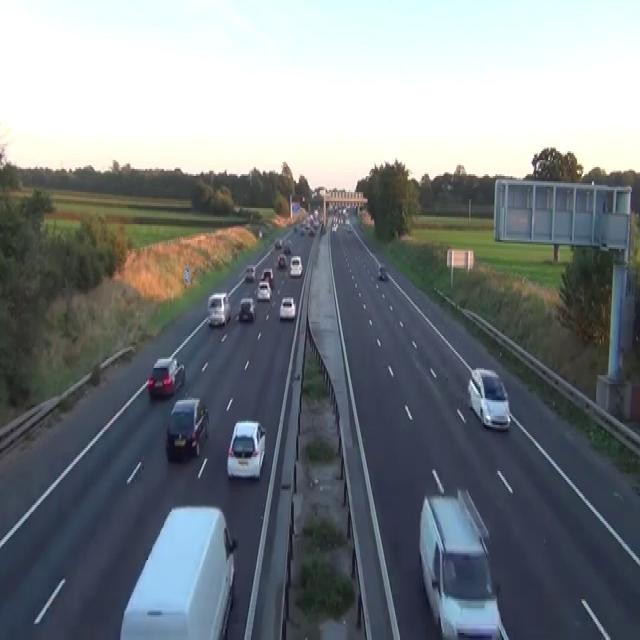Car: (467, 366, 510, 430), (165, 396, 209, 458), (456, 487, 490, 558), (226, 420, 265, 480), (147, 356, 185, 396), (206, 292, 231, 327), (238, 297, 255, 322), (279, 297, 296, 320), (256, 279, 271, 301), (289, 256, 302, 277), (261, 267, 273, 286), (245, 265, 255, 281), (377, 263, 386, 279), (277, 252, 287, 266), (274, 236, 282, 249), (283, 242, 291, 254), (320, 222, 326, 235), (328, 202, 334, 212), (345, 222, 350, 233), (331, 222, 337, 231), (344, 217, 350, 226), (308, 228, 315, 235), (258, 228, 262, 238), (354, 204, 358, 213), (293, 224, 297, 233), (299, 228, 304, 235)
Truck: (119, 503, 236, 638), (418, 476, 509, 638)
